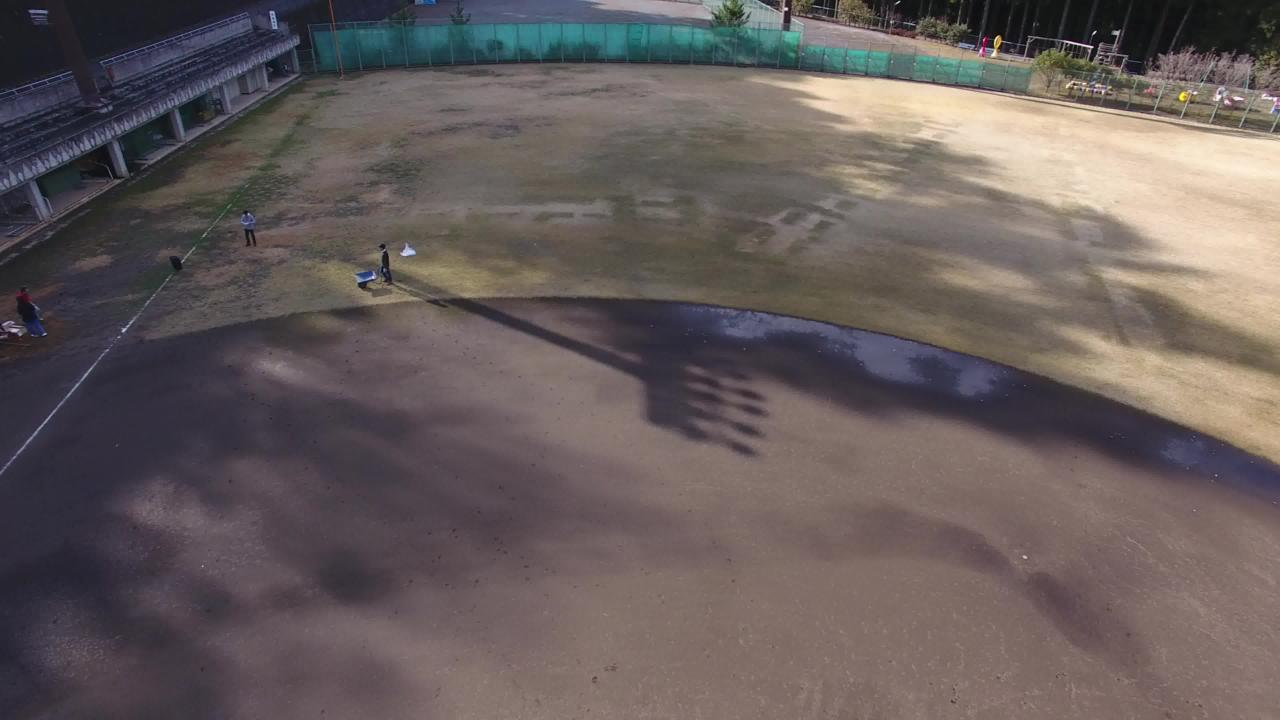person: (13, 285, 49, 348), (368, 236, 403, 300), (238, 204, 260, 263)
